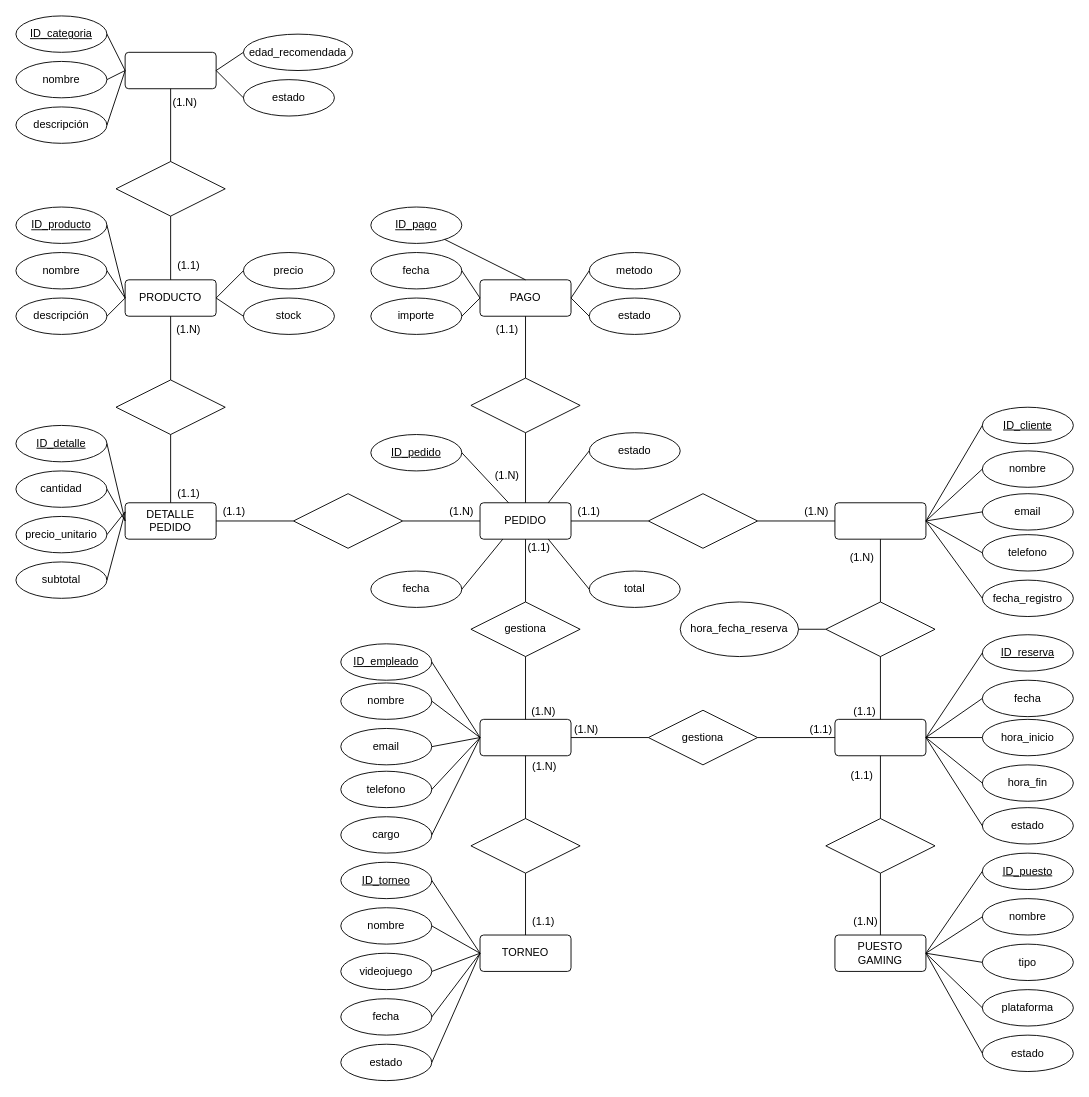
Some shapes in this 1089 by 1097 pixel diagram are drawn without their labels. The centre of each missing label's shape, as x and y in pixels:
"aparece en" belongs at (x=170, y=407).
"CATEGORIA" belongs at (x=170, y=70).
"clasifica" belongs at (x=170, y=188).
"CLIENTE" belongs at (x=880, y=520).
"contiene" belongs at (x=348, y=520).
"EMPLEADO" belongs at (x=525, y=737).
"organiza" belongs at (x=525, y=845).
"realiza" belongs at (x=880, y=629).
"realliza" belongs at (x=702, y=520).
"recibe" belongs at (x=880, y=845).
"registra" belongs at (x=525, y=405).
"RESERVA" belongs at (x=880, y=737).
